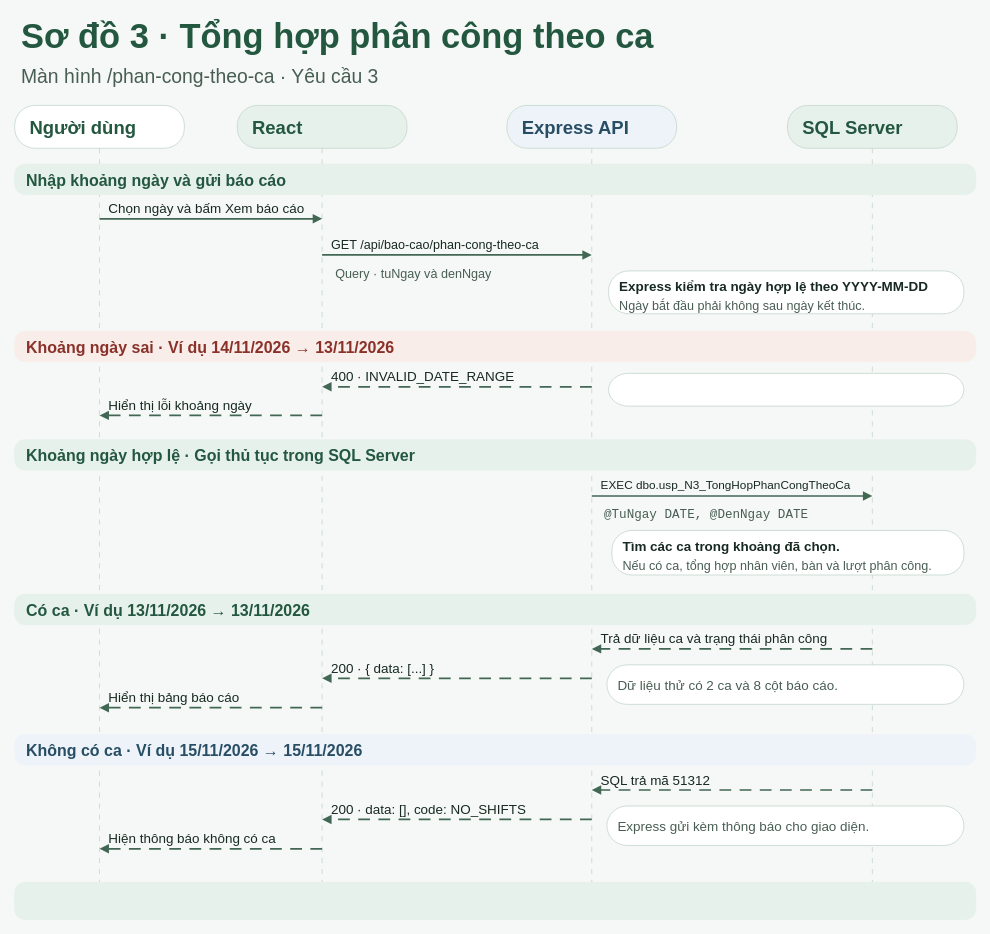
This 990x934 diagram has some shape labels left out. Here are the shapes that lost their labels. From the top down, the centre of each, then its label:
At (786,389): "Express từ chối trước khi gọi thủ tục SQL.".
At (495,900): "Ba nhánh đã kiểm thử ở N4-23 trên cơ sở dữ liệu BTL2_P3_DEMO.".
